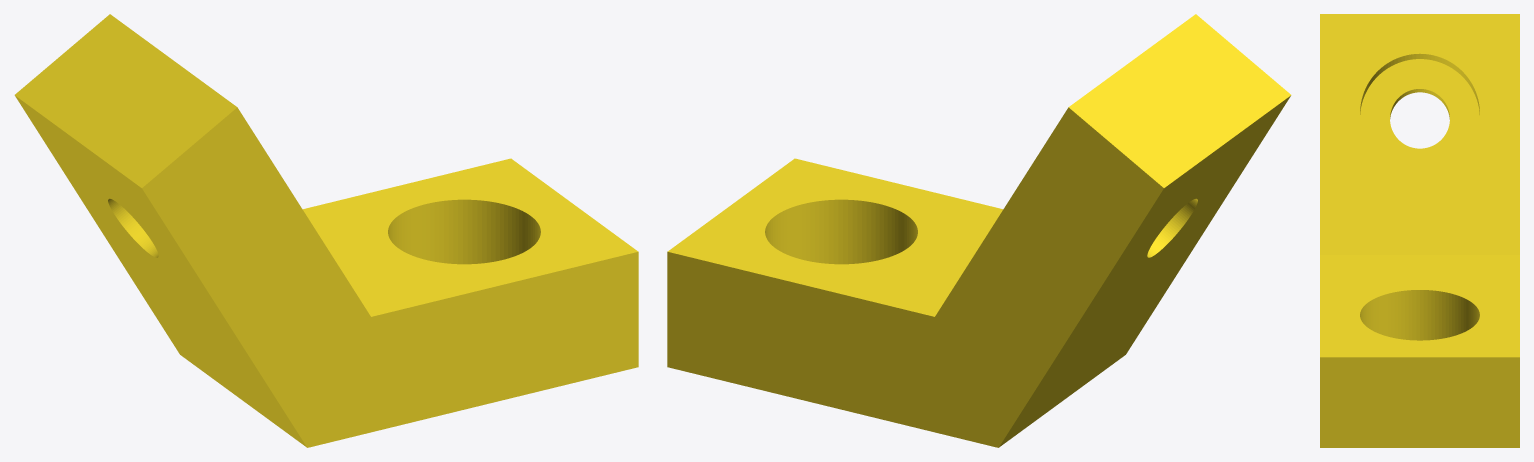
Rendered from openscad_parametric-fixing-angle-with-angle-ajustable-rudy-ruffel-v1-02.glb.
3 views of the same model, side by side, from view 1: azimuth 30°, elevation 25°; view 2: azimuth 150°, elevation 25°; view 3: azimuth 270°, elevation 25° (orthographic). The views are drawn at different scales.
Visible parts, largest first — view 1: object; view 2: object; view 3: object.
Part boxes in pixels (x1=…): object: x1=14, y1=14, x2=638, y2=447; object: x1=667, y1=14, x2=1291, y2=447; object: x1=1320, y1=14, x2=1519, y2=447.
Size of the model in its own units: 22.5 by 15.49 by 10.
